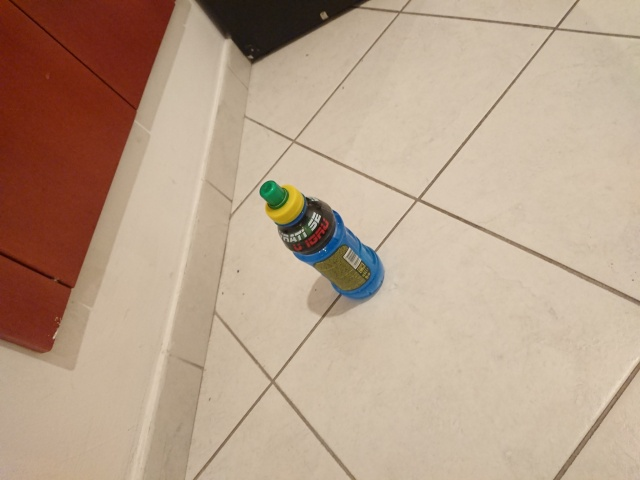Vindi Iso Sport Forest Strawberries 500mL: (258, 179, 387, 301)
